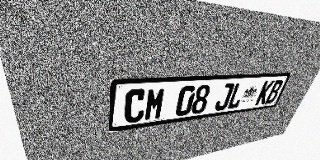0: (174, 85, 197, 117)
8: (190, 84, 212, 115)
B: (264, 80, 284, 104)
C: (124, 88, 147, 124)
J: (213, 83, 235, 111)
K: (254, 80, 275, 105)
L: (226, 82, 247, 109)
M: (144, 87, 167, 121)
